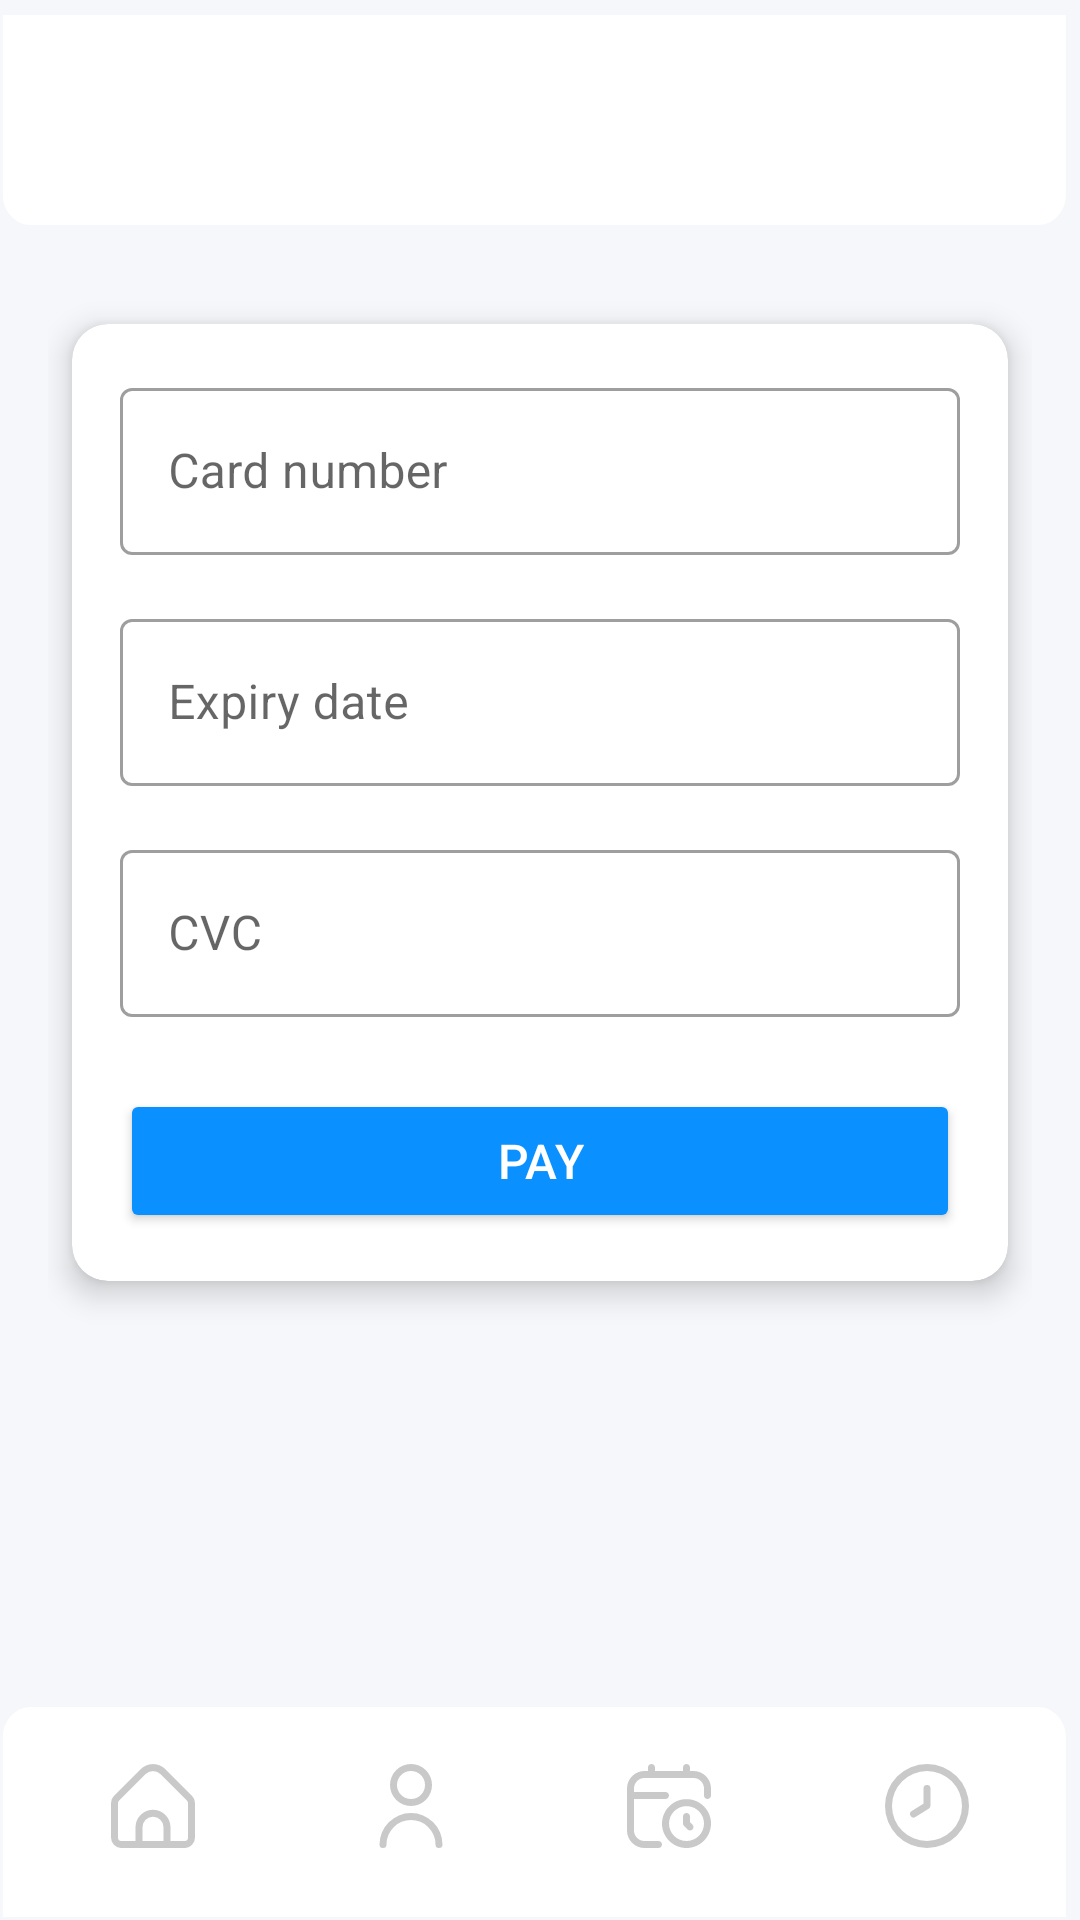

Icons on this 1080px×1920px Android screen, each with the point to tap as point (x, y):
calendar clock: point (669, 1806)
clock: point (927, 1806)
home: point (153, 1806)
user: point (411, 1806)
